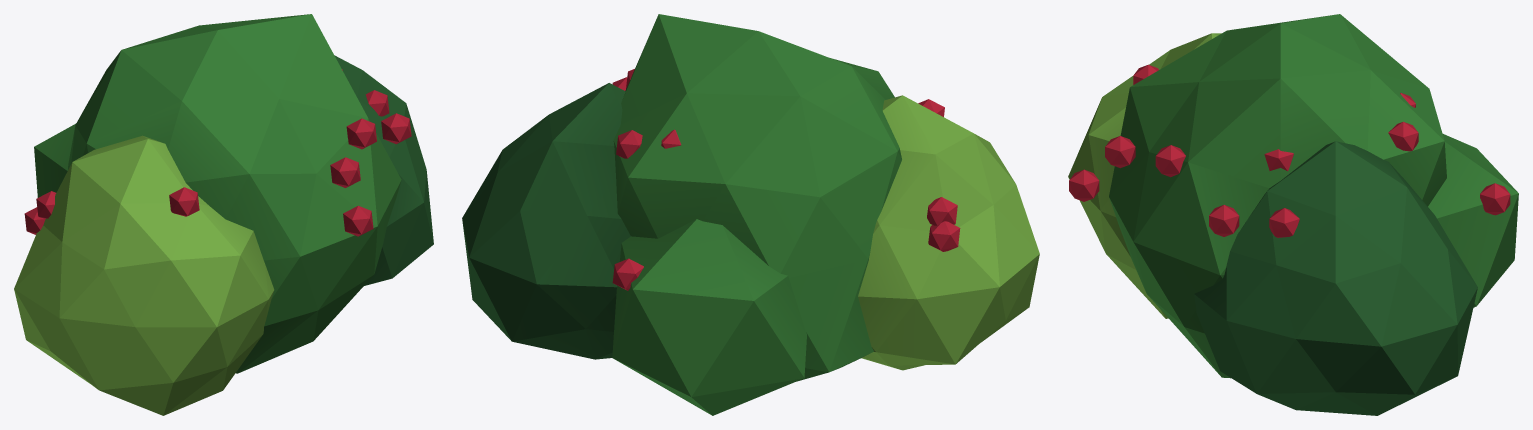
File: BerryBush.fbx
3 renders of one model, left to right at view 1: azimuth 30°, elevation 25°; view 2: azimuth 150°, elevation 25°; view 3: azimuth 270°, elevation 25°, orthographic. The views are drawn at different scales.
Visible parts, largest first — view 1: BerryBush, Berries; view 2: BerryBush, Berries; view 3: BerryBush, Berries.
Boxes of the visible parts, x1,y1,x2,y2 form: BerryBush: (14, 14, 433, 415); Berries: (24, 69, 411, 236); BerryBush: (462, 14, 1039, 415); Berries: (612, 69, 960, 290); BerryBush: (1068, 14, 1518, 415); Berries: (1069, 64, 1510, 237).
Bounding box in the file's own units: 1.95 × 1.39 × 1.64.
